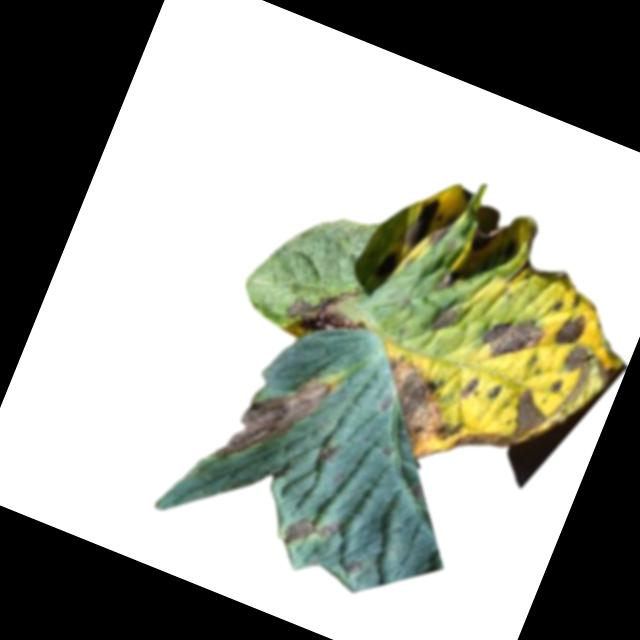Early_blight: (209, 351, 335, 489), (363, 346, 481, 471), (453, 370, 555, 479), (282, 272, 373, 352), (474, 305, 547, 376), (276, 499, 341, 559), (400, 192, 445, 254), (560, 341, 600, 383), (552, 308, 589, 352), (430, 305, 460, 339), (310, 440, 341, 472), (340, 557, 366, 583), (546, 376, 567, 398)
